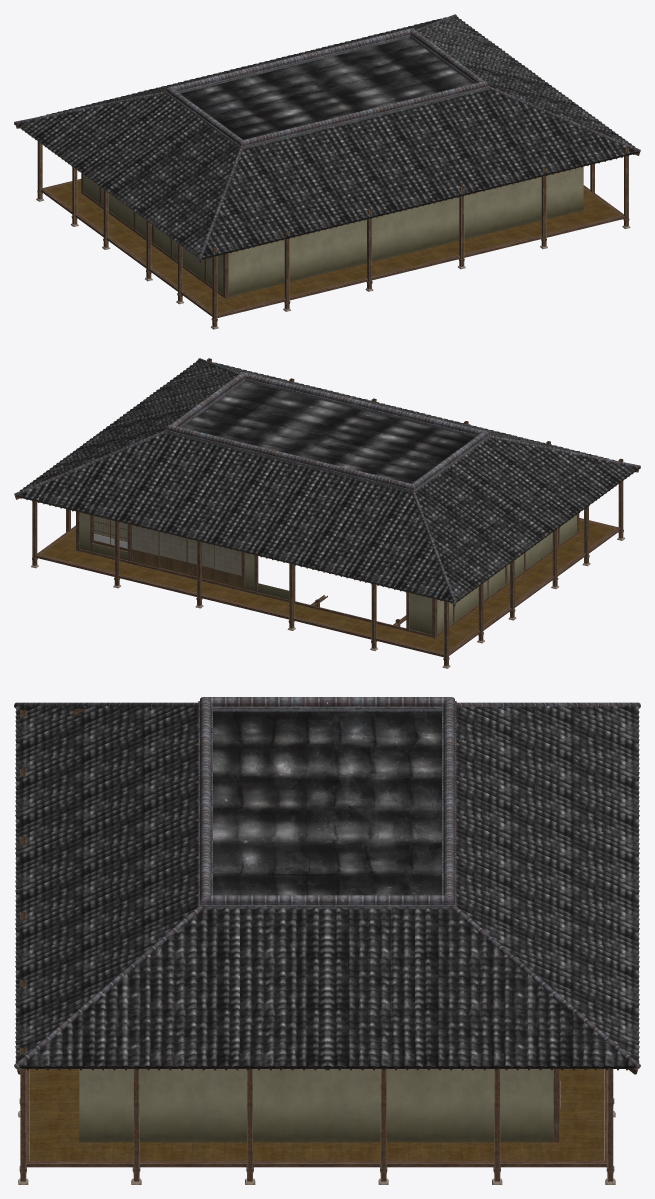
File: hisanoie_home1.fbx
3 renders of one model, top to bottom at view 1: azimuth 30°, elevation 25°; view 2: azimuth 150°, elevation 25°; view 3: azimuth 270°, elevation 25°, orthographic. The views are drawn at different scales.
Parts seen in each view (by area): view 1: SM_020_House_01a; view 2: SM_020_House_01a; view 3: SM_020_House_01a.
Part boxes in pixels (bbox=[...]): SM_020_House_01a: bbox=[14, 14, 640, 329]; SM_020_House_01a: bbox=[14, 358, 640, 668]; SM_020_House_01a: bbox=[14, 697, 640, 1184].
Bounding box in the file's own units: 2036 × 561 × 1485.
